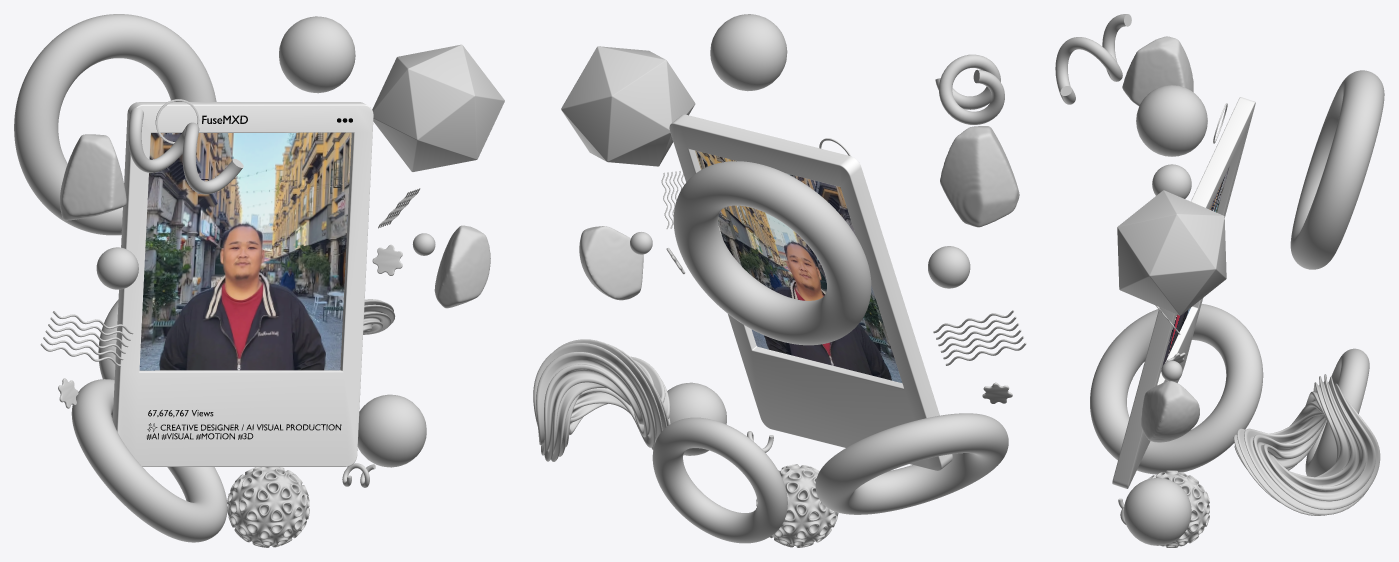
File: dstk-showcase.glb
3 renders of one model, left to right at view 1: azimuth 30°, elevation 25°; view 2: azimuth 150°, elevation 25°; view 3: azimuth 270°, elevation 25°, orthographic. The views are drawn at different scales.
Parts seen in each view (by area): view 1: DSTK_Web_Showcase, Plane.001; view 2: DSTK_Web_Showcase, Plane.001; view 3: DSTK_Web_Showcase, Plane.001.
Part boxes in pixels (<box>): DSTK_Web_Showcase: <box>14,14,504,547</box>; Plane.001: <box>139,132,351,370</box>; DSTK_Web_Showcase: <box>533,14,1026,547</box>; Plane.001: <box>695,150,902,382</box>; DSTK_Web_Showcase: <box>1055,14,1384,547</box>; Plane.001: <box>1161,167,1229,371</box>.
Bounding box in the file's own units: 3.49 × 3.77 × 2.35.
Materials: 5 (1 with a texture image).
